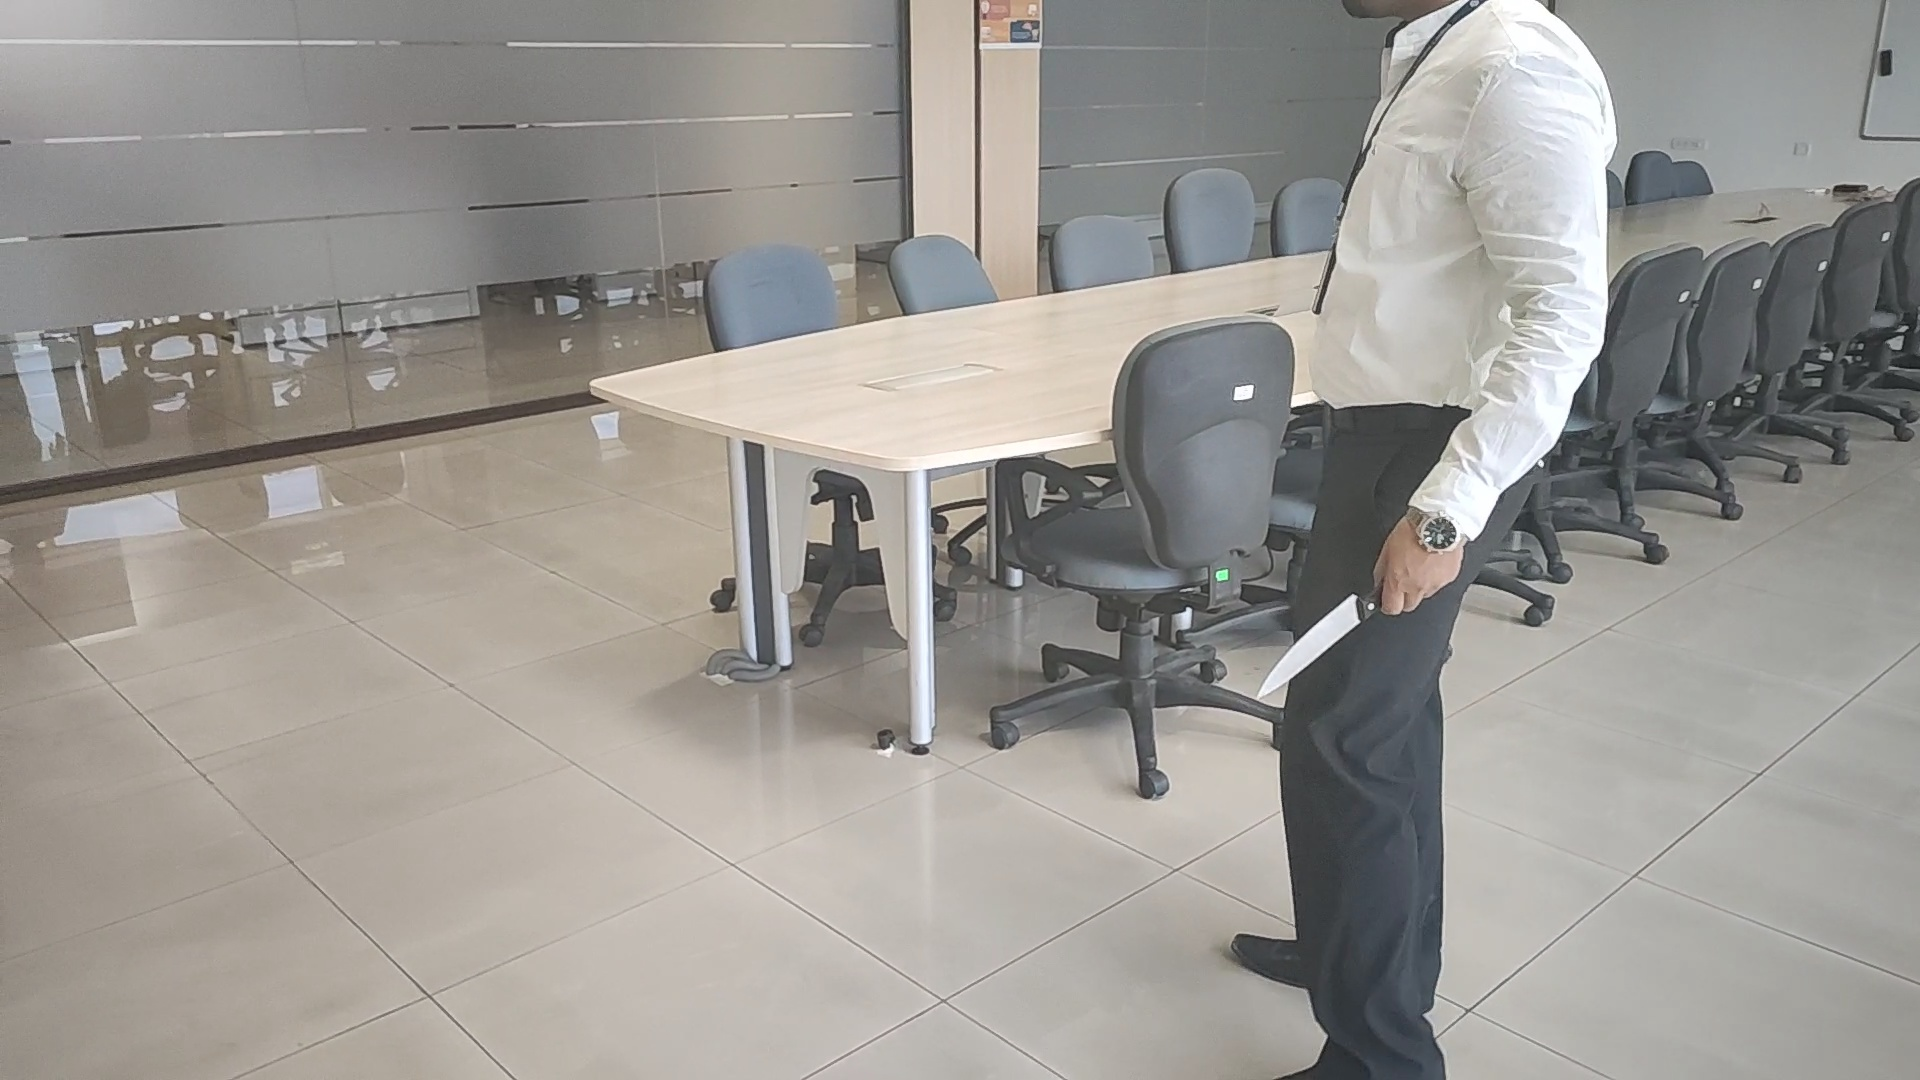knife: (1254, 580, 1381, 703)
